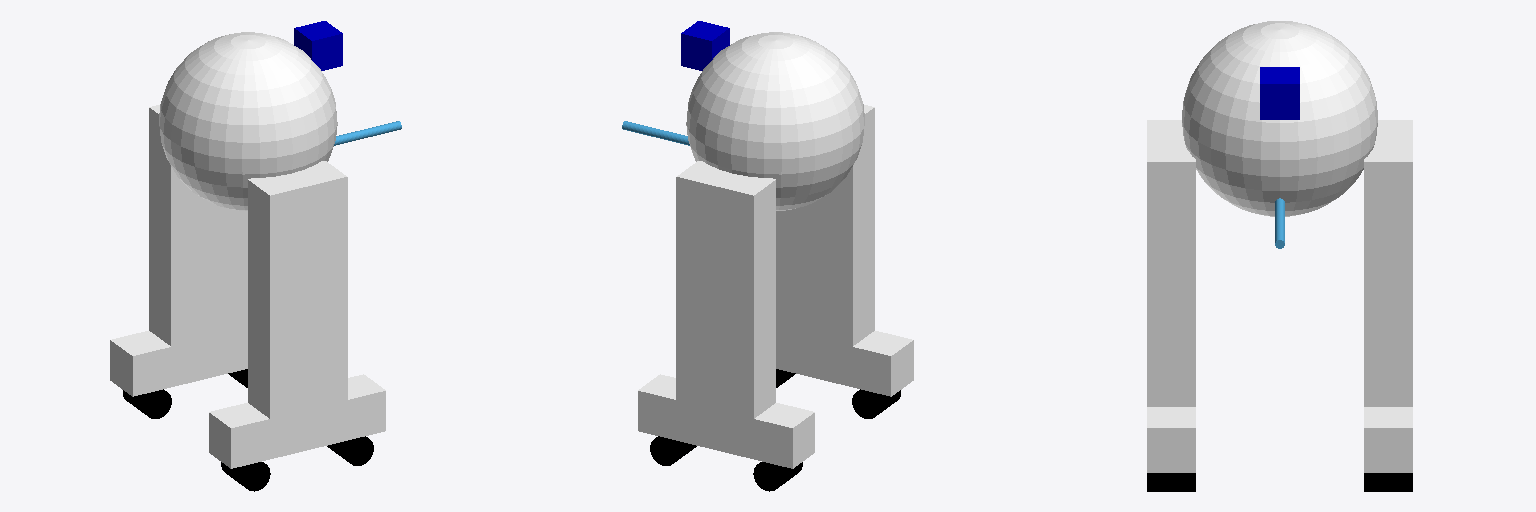
robot.urdf — visual:
<?xml version="1.0"?>
<robot name="visual">

  <material name="blue">
    <color rgba="0 0 0.8 1"/>
  </material>
  <material name="black">
    <color rgba="0 0 0 1"/>
  </material>
  <material name="white">
    <color rgba="1 1 1 1"/>
  </material>

  <link name="base_link">
    <visual>
      <geometry>
        <geometry>
            <mesh filename="/modularm/meshes/base_link.stl" scale="1.0"/>
        </geometry>
      </geometry>
      <material name="blue"/>
    </visual>
  </link>

  <link name="right_leg">
    <visual>
      <geometry>
        <box size="0.6 0.1 0.2"/>
      </geometry>
      <origin rpy="0 1.57075 0" xyz="0 0 -0.3"/>
      <material name="white"/>
    </visual>
  </link>

  <joint name="base_to_right_leg" type="fixed">
    <parent link="base_link"/>
    <child link="right_leg"/>
    <origin xyz="0 -0.22 0.25"/>
  </joint>

  <link name="right_base">
    <visual>
      <geometry>
        <box size="0.4 0.1 0.1"/>
      </geometry>
      <material name="white"/>
    </visual>
  </link>

  <joint name="right_base_joint" type="fixed">
    <parent link="right_leg"/>
    <child link="right_base"/>
    <origin xyz="0 0 -0.6"/>
  </joint>

  <link name="right_front_wheel">
    <visual>
      <origin rpy="1.57075 0 0" xyz="0 0 0"/>
      <geometry>
        <cylinder length="0.1" radius="0.035"/>
      </geometry>
      <material name="black"/>
    </visual>
  </link>
  <joint name="right_front_wheel_joint" type="fixed">
    <parent link="right_base"/>
    <child link="right_front_wheel"/>
    <origin rpy="0 0 0" xyz="0.133333333333 0 -0.085"/>
  </joint>

  <link name="right_back_wheel">
    <visual>
      <origin rpy="1.57075 0 0" xyz="0 0 0"/>
      <geometry>
        <cylinder length="0.1" radius="0.035"/>
      </geometry>
      <material name="black"/>
    </visual>
  </link>
  <joint name="right_back_wheel_joint" type="fixed">
    <parent link="right_base"/>
    <child link="right_back_wheel"/>
    <origin rpy="0 0 0" xyz="-0.133333333333 0 -0.085"/>
  </joint>

  <link name="left_leg">
    <visual>
      <geometry>
        <box size="0.6 0.1 0.2"/>
      </geometry>
      <origin rpy="0 1.57075 0" xyz="0 0 -0.3"/>
      <material name="white"/>
    </visual>
  </link>

  <joint name="base_to_left_leg" type="fixed">
    <parent link="base_link"/>
    <child link="left_leg"/>
    <origin xyz="0 0.22 0.25"/>
  </joint>

  <link name="left_base">
    <visual>
      <geometry>
        <box size="0.4 0.1 0.1"/>
      </geometry>
      <material name="white"/>
    </visual>
  </link>

  <joint name="left_base_joint" type="fixed">
    <parent link="left_leg"/>
    <child link="left_base"/>
    <origin xyz="0 0 -0.6"/>
  </joint>

  <link name="left_front_wheel">
    <visual>
      <origin rpy="1.57075 0 0" xyz="0 0 0"/>
      <geometry>
        <cylinder length="0.1" radius="0.035"/>
      </geometry>
      <material name="black"/>
    </visual>
  </link>
  <joint name="left_front_wheel_joint" type="fixed">
    <parent link="left_base"/>
    <child link="left_front_wheel"/>
    <origin rpy="0 0 0" xyz="0.133333333333 0 -0.085"/>
  </joint>

  <link name="left_back_wheel">
    <visual>
      <origin rpy="1.57075 0 0" xyz="0 0 0"/>
      <geometry>
        <cylinder length="0.1" radius="0.035"/>
      </geometry>
      <material name="black"/>
    </visual>
  </link>
  <joint name="left_back_wheel_joint" type="fixed">
    <parent link="left_base"/>
    <child link="left_back_wheel"/>
    <origin rpy="0 0 0" xyz="-0.133333333333 0 -0.085"/>
  </joint>

  <joint name="gripper_extension" type="fixed">
    <parent link="base_link"/>
    <child link="gripper_pole"/>
    <origin rpy="0 0 0" xyz="0.19 0 0.2"/>
  </joint>

  <link name="gripper_pole">
    <visual>
      <geometry>
        <cylinder length="0.2" radius="0.01"/>
      </geometry>
      <origin rpy="0 1.57075 0 " xyz="0.1 0 0"/>
    </visual>
  </link>

  <joint name="left_gripper_joint" type="fixed">
    <origin rpy="0 0 0" xyz="0.2 0.01 0"/>
    <parent link="gripper_pole"/>
    <child link="left_gripper"/>
  </joint>

  <link name="left_gripper">
    <visual>
      <origin rpy="0.0 0 0" xyz="0 0 0"/>
      <geometry>
        <mesh filename="package://urdf_tutorial/meshes/l_finger.dae"/>
      </geometry>
    </visual>
  </link>

  <joint name="left_tip_joint" type="fixed">
    <parent link="left_gripper"/>
    <child link="left_tip"/>
  </joint>

  <link name="left_tip">
    <visual>
      <origin rpy="0.0 0 0" xyz="0.09137 0.00495 0"/>
      <geometry>
        <mesh filename="package://urdf_tutorial/meshes/l_finger_tip.dae"/>
      </geometry>
    </visual>
  </link>
  <joint name="right_gripper_joint" type="fixed">
    <origin rpy="0 0 0" xyz="0.2 -0.01 0"/>
    <parent link="gripper_pole"/>
    <child link="right_gripper"/>
  </joint>

  <link name="right_gripper">
    <visual>
      <origin rpy="-3.1415 0 0" xyz="0 0 0"/>
      <geometry>
        <mesh filename="package://urdf_tutorial/meshes/l_finger.dae"/>
      </geometry>
    </visual>
  </link>

  <joint name="right_tip_joint" type="fixed">
    <parent link="right_gripper"/>
    <child link="right_tip"/>
  </joint>

  <link name="right_tip">
    <visual>
      <origin rpy="-3.1415 0 0" xyz="0.09137 0.00495 0"/>
      <geometry>
        <mesh filename="package://urdf_tutorial/meshes/l_finger_tip.dae"/>
      </geometry>
    </visual>
  </link>

  <link name="head">
    <visual>
      <geometry>
        <sphere radius="0.2"/>
      </geometry>
      <material name="white"/>
    </visual>
  </link>
  <joint name="head_swivel" type="fixed">
    <parent link="base_link"/>
    <child link="head"/>
    <origin xyz="0 0 0.3"/>
  </joint>

  <link name="box">
    <visual>
      <geometry>
        <box size="0.08 0.08 0.08"/>
      </geometry>
      <material name="blue"/>
    </visual>
  </link>

  <joint name="tobox" type="fixed">
    <parent link="head"/>
    <child link="box"/>
    <origin xyz="0.1814 0 0.1414"/>
  </joint>
</robot>

--- What the picture shows (computed from the rendered views, not written in the file) ---
The picture shows the robot from 3 angles, left to right: view 1: azimuth 30°, elevation 25°; view 2: azimuth 150°, elevation 25°; view 3: azimuth 270°, elevation 25°; orthographic projection.
Model visual with 16 links and 15 joints (15 fixed), rooted at base_link, posed all joints at 0.
Visible links, largest first — view 1: right_leg, head, left_leg, right_base, left_base, box, right_back_wheel, left_back_wheel, right_front_wheel, gripper_pole; view 2: left_leg, head, right_leg, left_base, right_base, box, left_back_wheel, right_back_wheel, left_front_wheel, gripper_pole; view 3: head, right_leg, left_leg, right_base, left_base, box, right_front_wheel, left_front_wheel.
Boxes of the visible links, x1,y1,x2,y2 form: right_leg: (248,161,347,438); head: (159,32,337,210); left_leg: (149,105,247,366); right_base: (209,374,385,468); left_base: (110,328,247,396); box: (294,21,342,70); right_back_wheel: (221,462,270,491); left_back_wheel: (123,389,171,418); right_front_wheel: (327,436,373,465); gripper_pole: (334,121,401,145); left_leg: (676,161,775,438); head: (686,32,864,210); right_leg: (776,105,874,366); left_base: (638,374,814,468); right_base: (776,331,913,396); box: (681,21,729,70); left_back_wheel: (753,462,802,491); right_back_wheel: (852,389,900,418); left_front_wheel: (650,436,696,465); gripper_pole: (622,121,689,145); head: (1182,21,1377,216); right_leg: (1147,120,1195,406); left_leg: (1364,120,1412,406); right_base: (1147,407,1195,472); left_base: (1364,407,1412,472); box: (1260,67,1299,119); right_front_wheel: (1147,473,1195,491); left_front_wheel: (1364,473,1412,491).
Bounding box of the posed robot: 0.59 × 0.54 × 0.97 m (x, y, z).
Meshes: 2 distinct files referenced, 0 mesh visuals loaded (none loaded); not drawn: 4 (reference not matched to a file when rendering).
